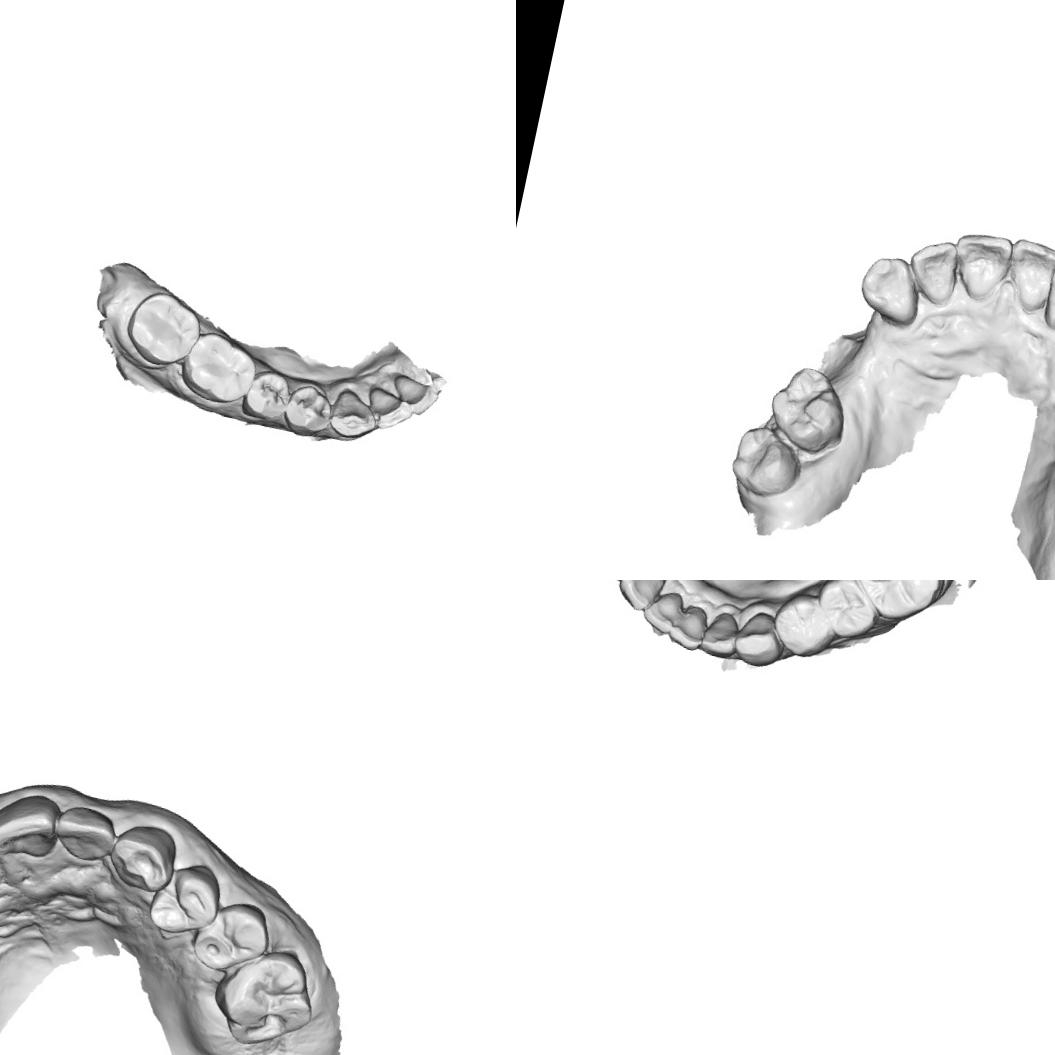canine: (853, 250, 929, 332), (108, 822, 179, 890), (730, 606, 790, 672), (324, 384, 384, 445)
incisor: (945, 225, 1017, 307), (0, 787, 65, 863), (901, 233, 965, 309), (998, 235, 1055, 318), (51, 802, 120, 868), (361, 383, 417, 436), (386, 371, 442, 420), (697, 607, 745, 663), (639, 585, 688, 637), (664, 600, 711, 652), (612, 580, 669, 616), (1038, 264, 1055, 337)
molar: (205, 935, 325, 1055), (761, 360, 857, 462), (119, 284, 208, 374), (174, 326, 264, 410), (724, 419, 810, 506), (848, 580, 953, 629)
premolar: (186, 892, 276, 979), (144, 859, 228, 941), (766, 587, 841, 663), (809, 580, 886, 645), (238, 363, 296, 425), (279, 380, 336, 442)
